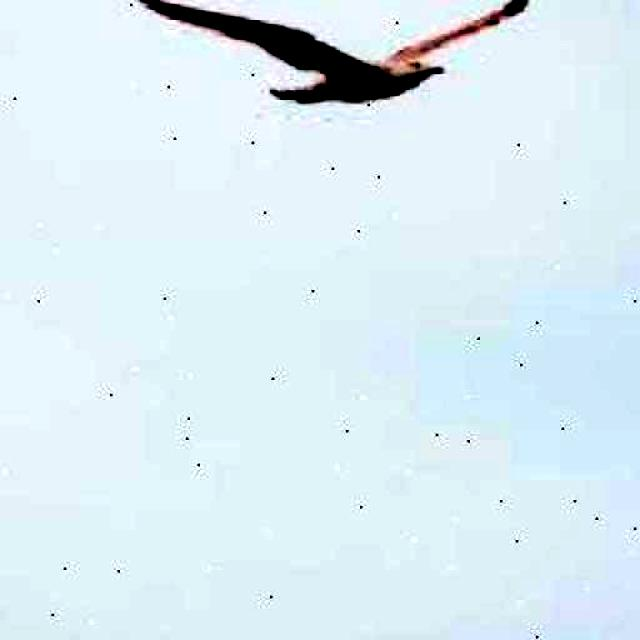airplane: (112, 0, 546, 116)
